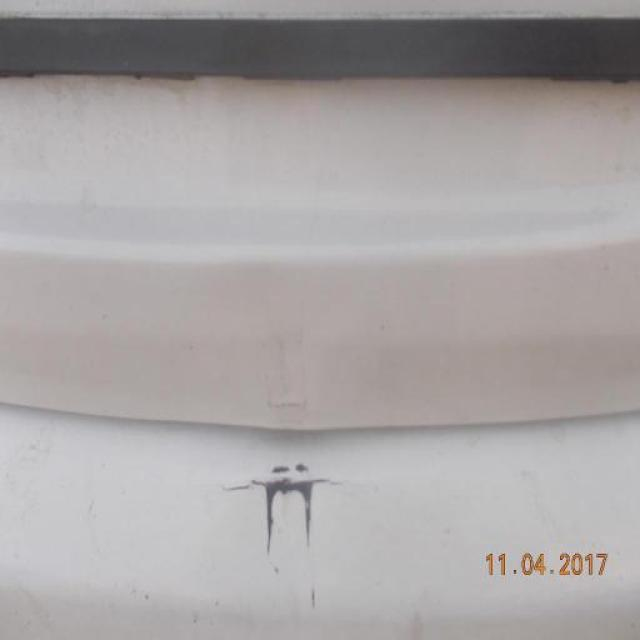tear: (218, 461, 339, 565)
